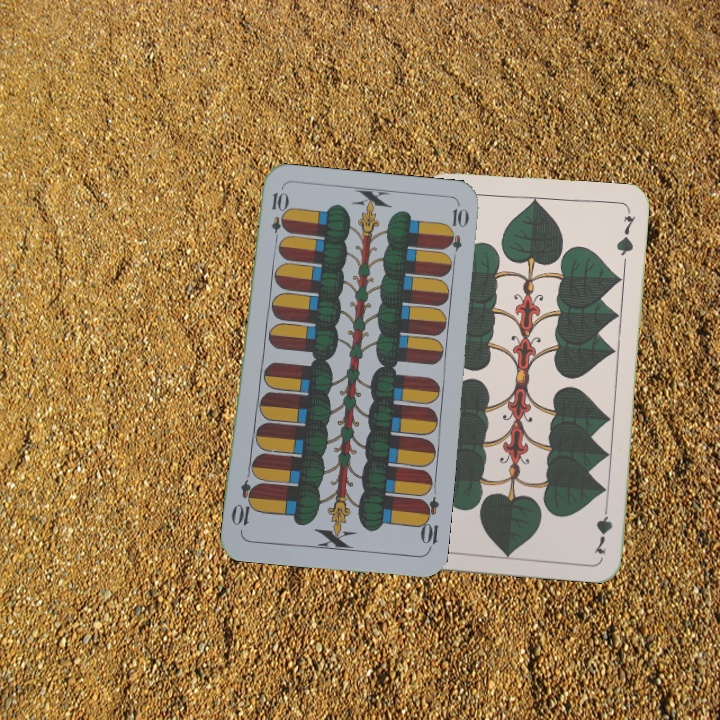E10: (415, 494, 441, 553), (267, 188, 287, 247)
G7: (590, 498, 615, 557)
